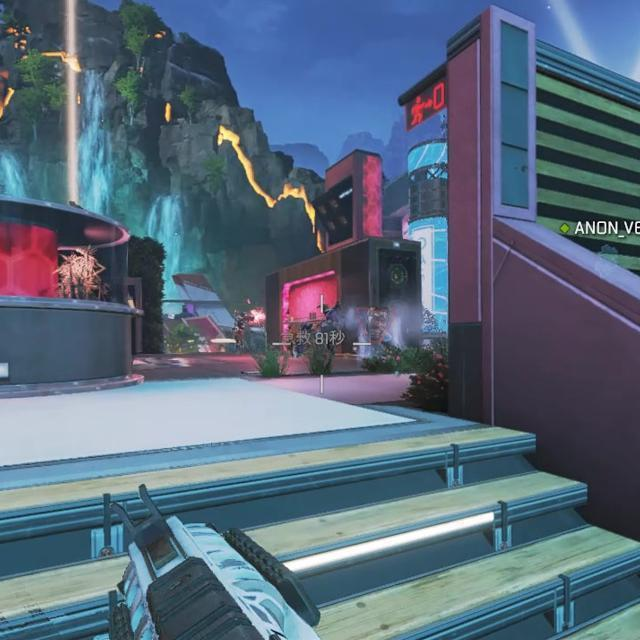avatar: (230, 309, 251, 353)
